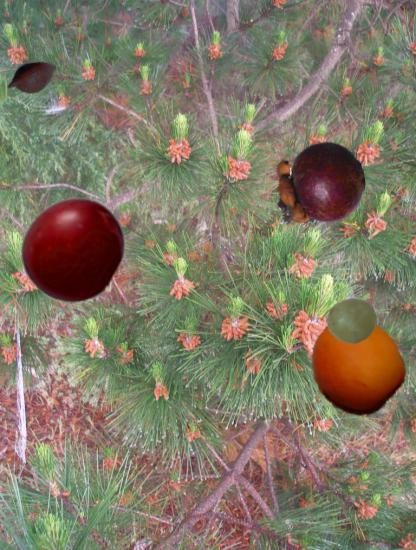Apricot: (306, 316, 406, 416)
Cherry: (19, 195, 127, 303)
Grape: (327, 296, 378, 347)
Mangostan: (274, 138, 366, 230)
Rambutan: (267, 159, 342, 234)
Salak: (6, 52, 59, 105)
